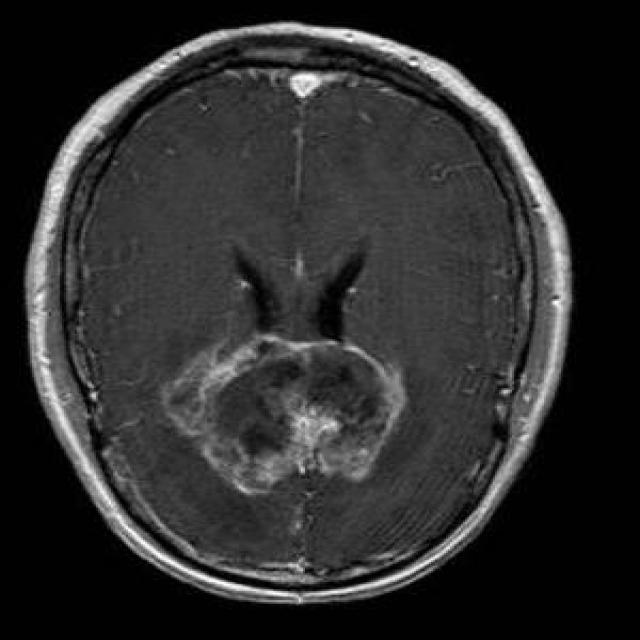Tumor-Cell: (167, 319, 401, 472)
